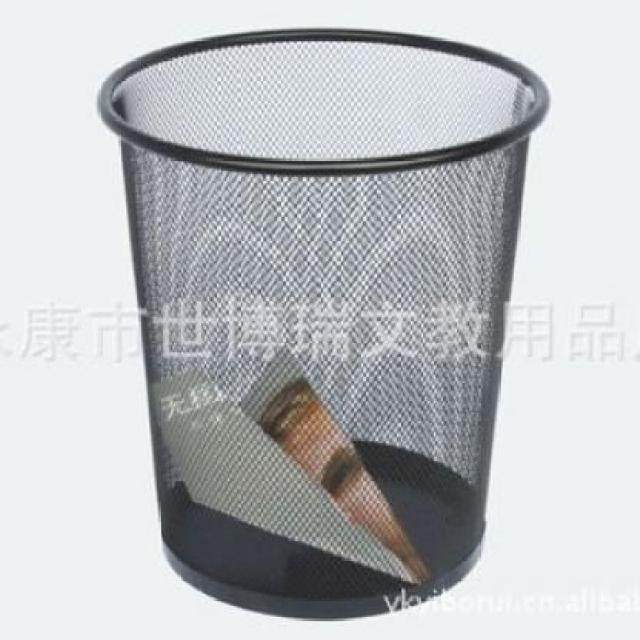dustbin: (94, 25, 555, 626)
